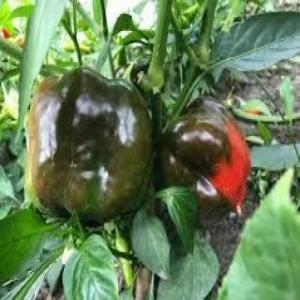bell_pepper: (23, 60, 153, 230), (161, 87, 253, 238)
